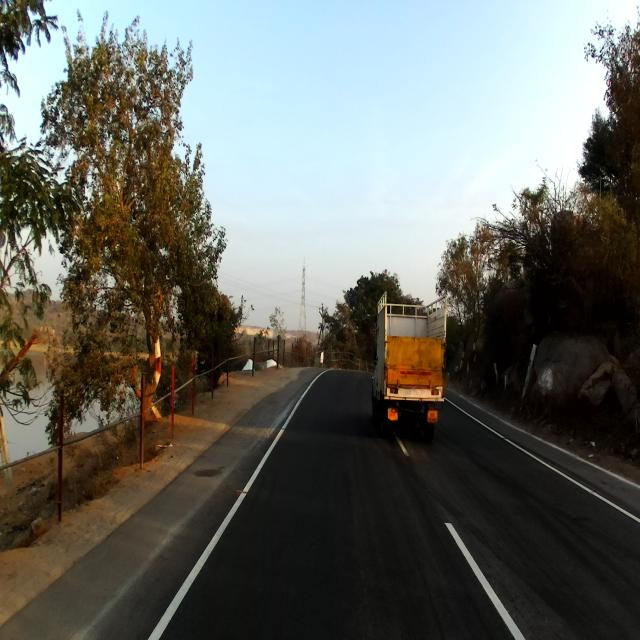truck ahead at: (376, 281, 450, 438)
